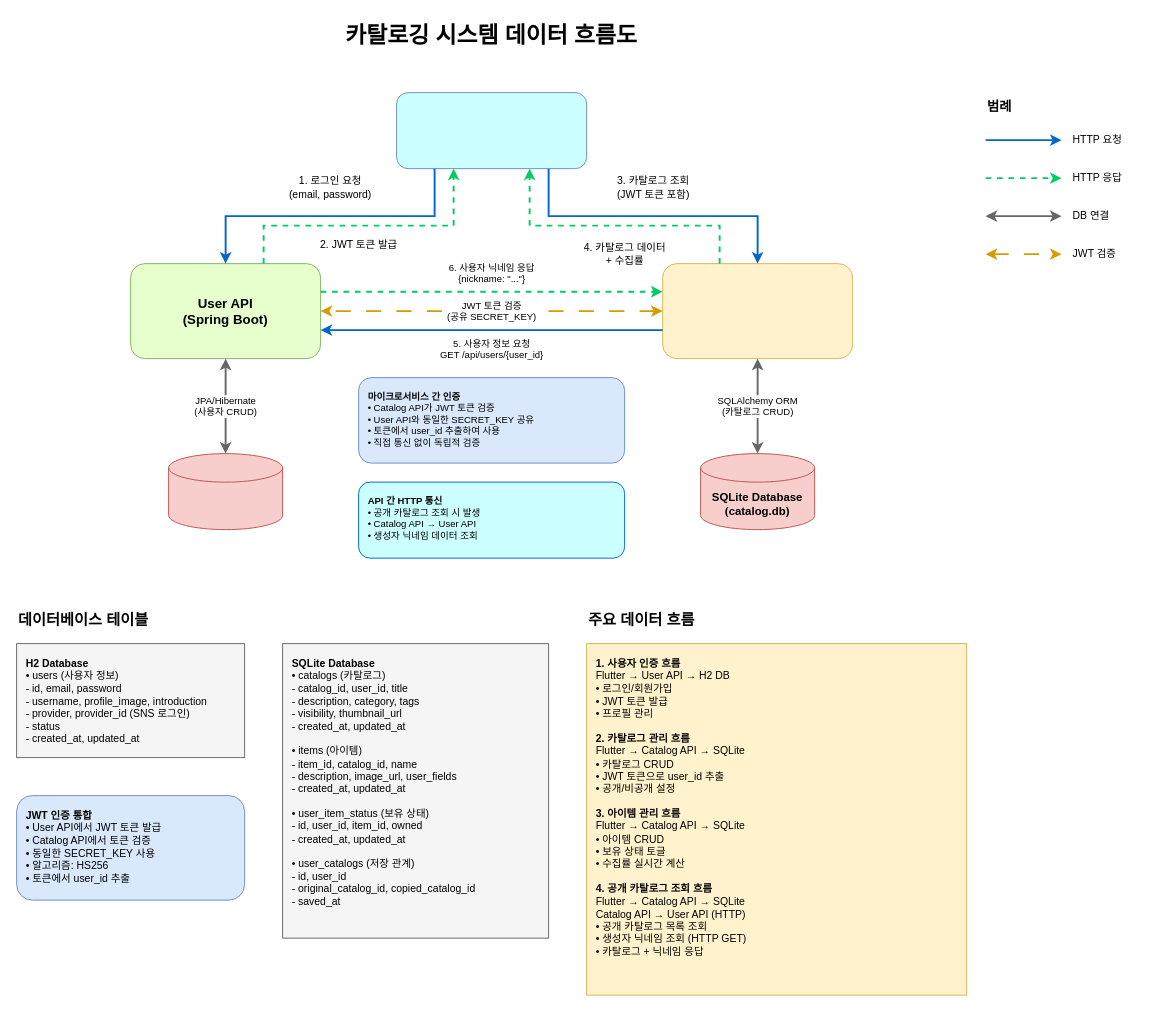
Image size: 1164x1012. Some labels were removed from this diagram. Here are the shapes that lost their labels. From the top down, the box of each, then its label:
(396, 92, 587, 169): Flutter Client (Web/Mobile)
(662, 263, 853, 359): Catalog API (FastAPI)
(168, 453, 283, 530): H2 Database (Embedded, File-mode)
